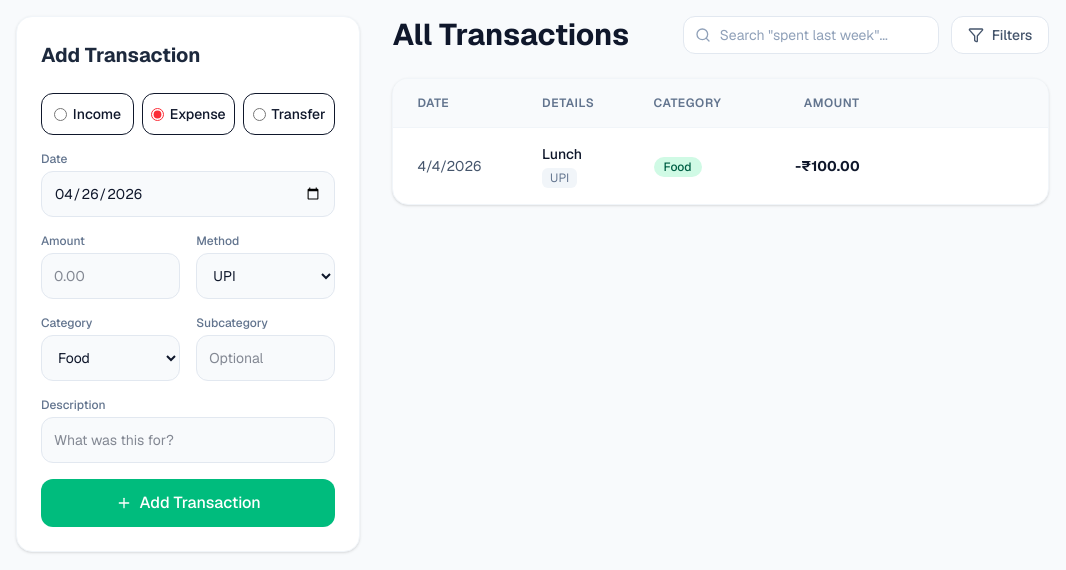
TransactionManager Component › handles smart search correctly
Type "Lunch" into the field with placeholder "Search \"spent last week\"..." at (811, 35), box [683,16,939,54]
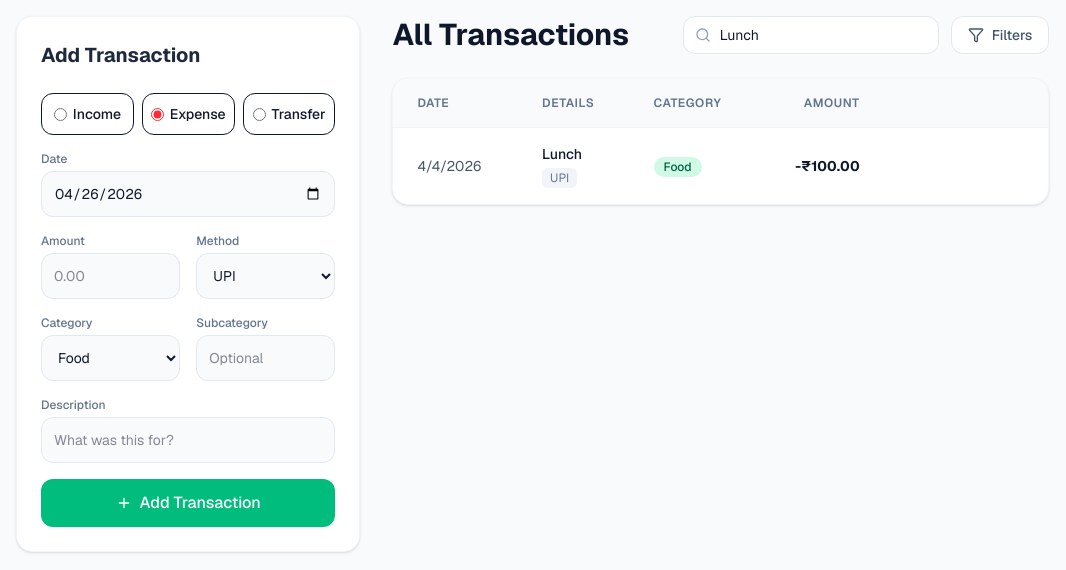
Expected: the text "-₹100.00" is shown, [759,128,884,204]
Replace the text in the field with placeholder "Search \"spent last week\"..." with "Nonexistent Transaction" at (811, 35), box [683,16,939,54]
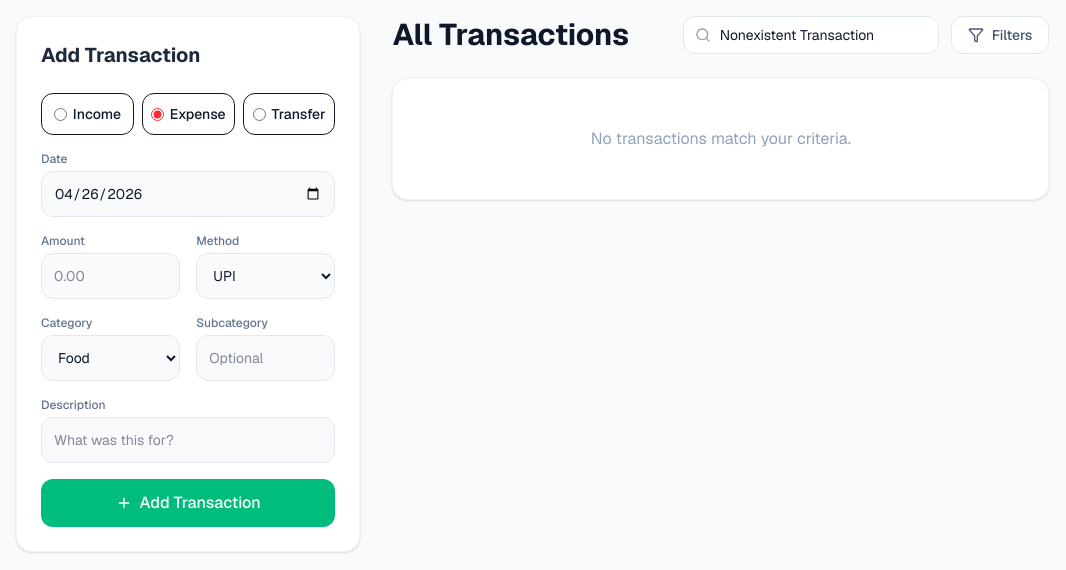
Result: the text "-₹100.00" is gone
